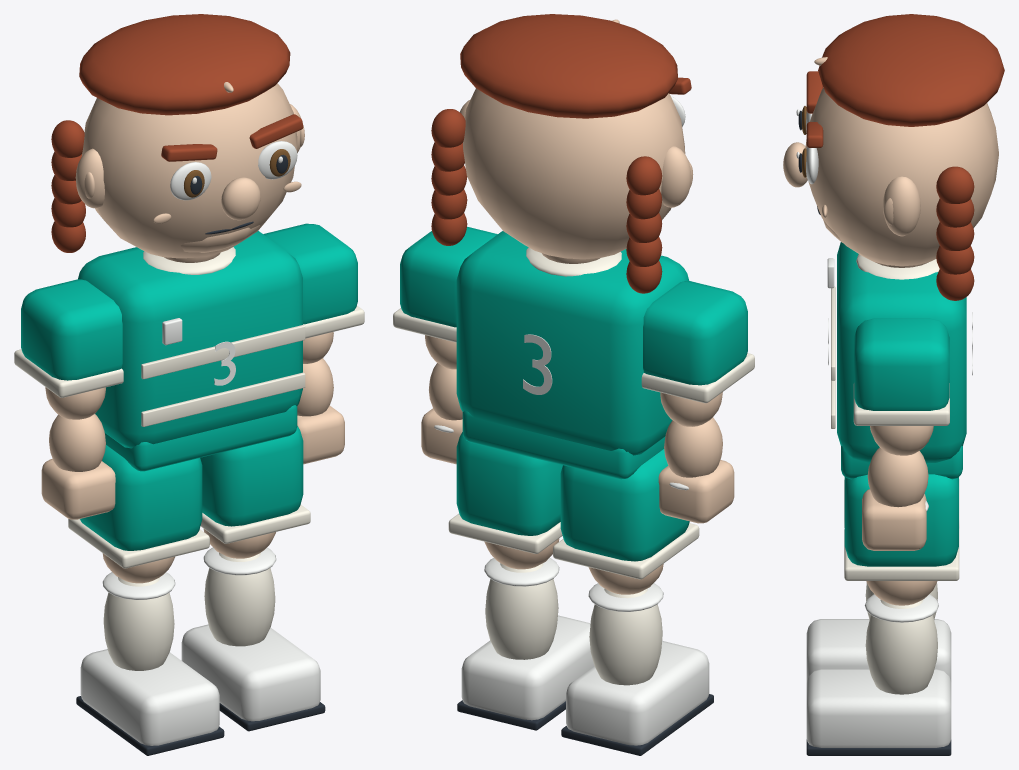
File: Lina.fbx
3 views of the same model, side by side, from view 1: azimuth 30°, elevation 25°; view 2: azimuth 150°, elevation 25°; view 3: azimuth 270°, elevation 25° (orthographic). The views are drawn at different scales.
Parts seen in each view (by area): view 1: Torso, Head, HairCap, Boot_Left, Boot_Right, Sleeve_Left, Shorts_Left, Shorts_Right, Sleeve_Right, Sock_Right, Sock_Left, Waist (+31 smaller); view 2: Torso, Head, HairCap, Shorts_Left, Boot_Left, Sleeve_Left, Shorts_Right, Boot_Right, Sleeve_Right, Sock_Right, Sock_Left, Waist (+29 smaller); view 3: Head, HairCap, Torso, Boot_Right, Sleeve_Right, Shorts_Right, Sock_Right, Boot_Left, Hand_Right, Forearm_Right, ShortHem_Right, SleeveCuff_Right (+17 smaller).
Boxes of the visible parts, x1=… form: Torso: x1=78, y1=230, x2=302, y2=448; Head: x1=81, y1=83, x2=297, y2=258; HairCap: x1=79, y1=14, x2=290, y2=115; Boot_Left: x1=80, y1=649, x2=219, y2=745; Boot_Right: x1=181, y1=624, x2=320, y2=721; Sleeve_Left: x1=21, y1=279, x2=122, y2=380; Shorts_Left: x1=80, y1=445, x2=202, y2=550; Shorts_Right: x1=200, y1=426, x2=303, y2=526; Sleeve_Right: x1=263, y1=223, x2=357, y2=324; Sock_Right: x1=204, y1=552, x2=275, y2=646; Sock_Left: x1=103, y1=577, x2=174, y2=670; Waist: x1=105, y1=405, x2=297, y2=471; Torso: x1=456, y1=231, x2=689, y2=455; Head: x1=463, y1=88, x2=685, y2=259; HairCap: x1=460, y1=14, x2=677, y2=118; Shorts_Left: x1=560, y1=449, x2=689, y2=561; Boot_Left: x1=566, y1=640, x2=709, y2=745; Sleeve_Left: x1=643, y1=281, x2=747, y2=385; Shorts_Right: x1=456, y1=432, x2=562, y2=535; Boot_Right: x1=461, y1=615, x2=594, y2=720; Sleeve_Right: x1=400, y1=226, x2=497, y2=327; Sock_Right: x1=485, y1=563, x2=558, y2=659; Sock_Left: x1=589, y1=588, x2=662, y2=685; Waist: x1=462, y1=410, x2=665, y2=479; Head: x1=805, y1=88, x2=998, y2=266; HairCap: x1=818, y1=14, x2=1004, y2=126; Torso: x1=837, y1=242, x2=966, y2=462; Boot_Right: x1=806, y1=669, x2=951, y2=747; Sleeve_Right: x1=854, y1=318, x2=949, y2=410; Shorts_Right: x1=844, y1=474, x2=958, y2=566; Sock_Right: x1=865, y1=599, x2=937, y2=694; Boot_Left: x1=806, y1=619, x2=951, y2=682; Hand_Right: x1=862, y1=489, x2=926, y2=550; Forearm_Right: x1=867, y1=447, x2=928, y2=507; ShortHem_Right: x1=844, y1=529, x2=959, y2=580; SleeveCuff_Right: x1=853, y1=383, x2=949, y2=425.
Bounding box in the file's own units: 94 × 195 × 58.15.
